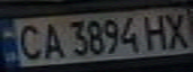3: (63, 17, 87, 57)
4: (118, 14, 142, 53)
8: (84, 16, 106, 56)
9: (103, 16, 124, 54)
A: (36, 19, 66, 61)
C: (12, 21, 48, 62)
H: (139, 11, 175, 52)
X: (160, 9, 193, 50)
